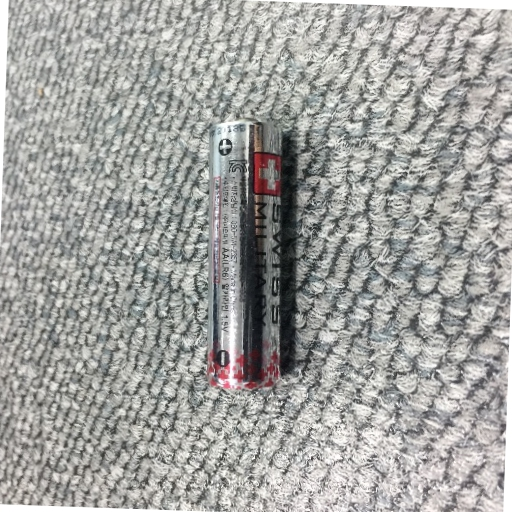Battery_0: (200, 113, 298, 392)
